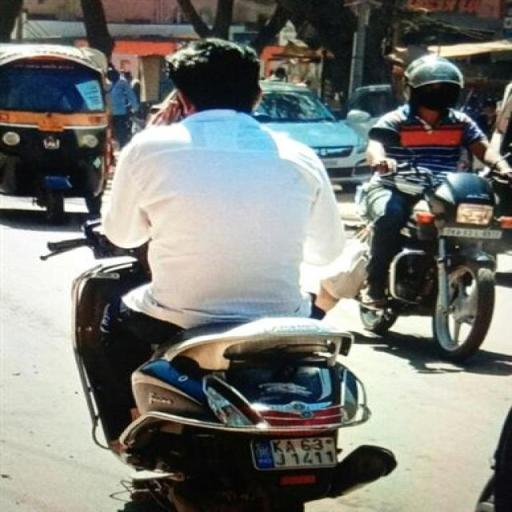using mobile: (148, 90, 191, 127)
